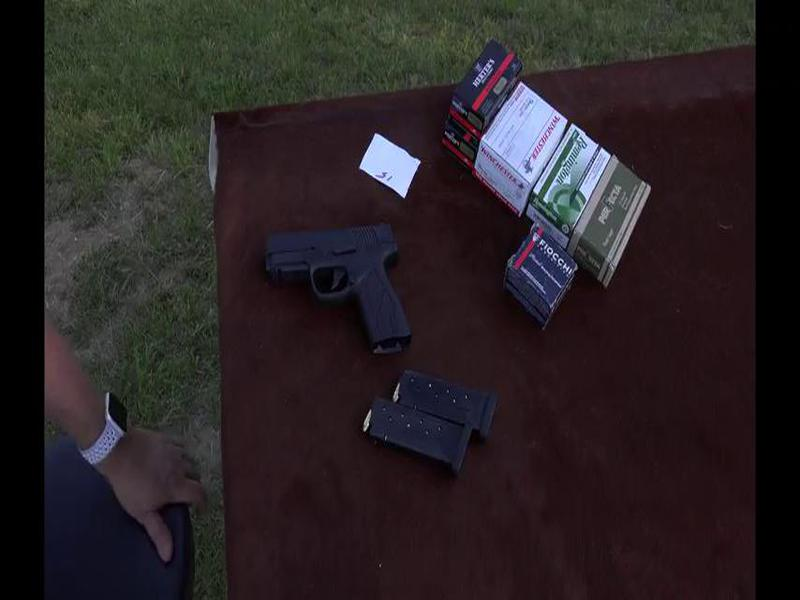Pistola: (258, 230, 434, 356)
